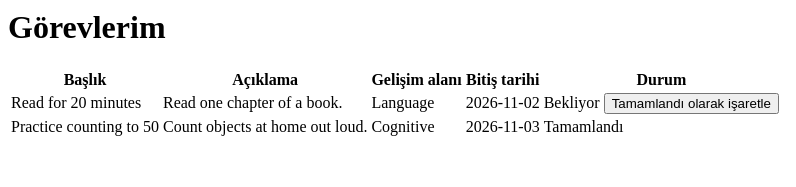
Test: ChildTasksPage › keeps the task pending and shows an error when saving fails
What coordinates should you click on to do the following:
click the button with aria-label "Read for 20 minutes görevini tamamlandı olarak işaretle"
I would click on:
 (691, 103)
Its box is [604, 93, 779, 114].
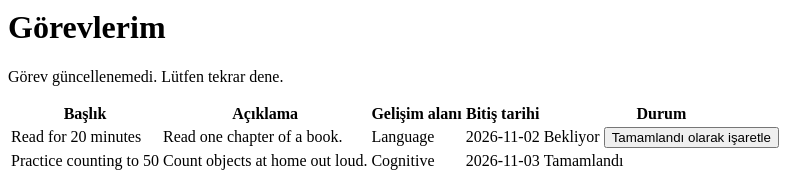
expect the button is shown: met, box [604, 127, 779, 148]
expect the message reads "Görev güncellenemedi. Lütfen tekrar dene.": met, box [8, 68, 283, 85]
